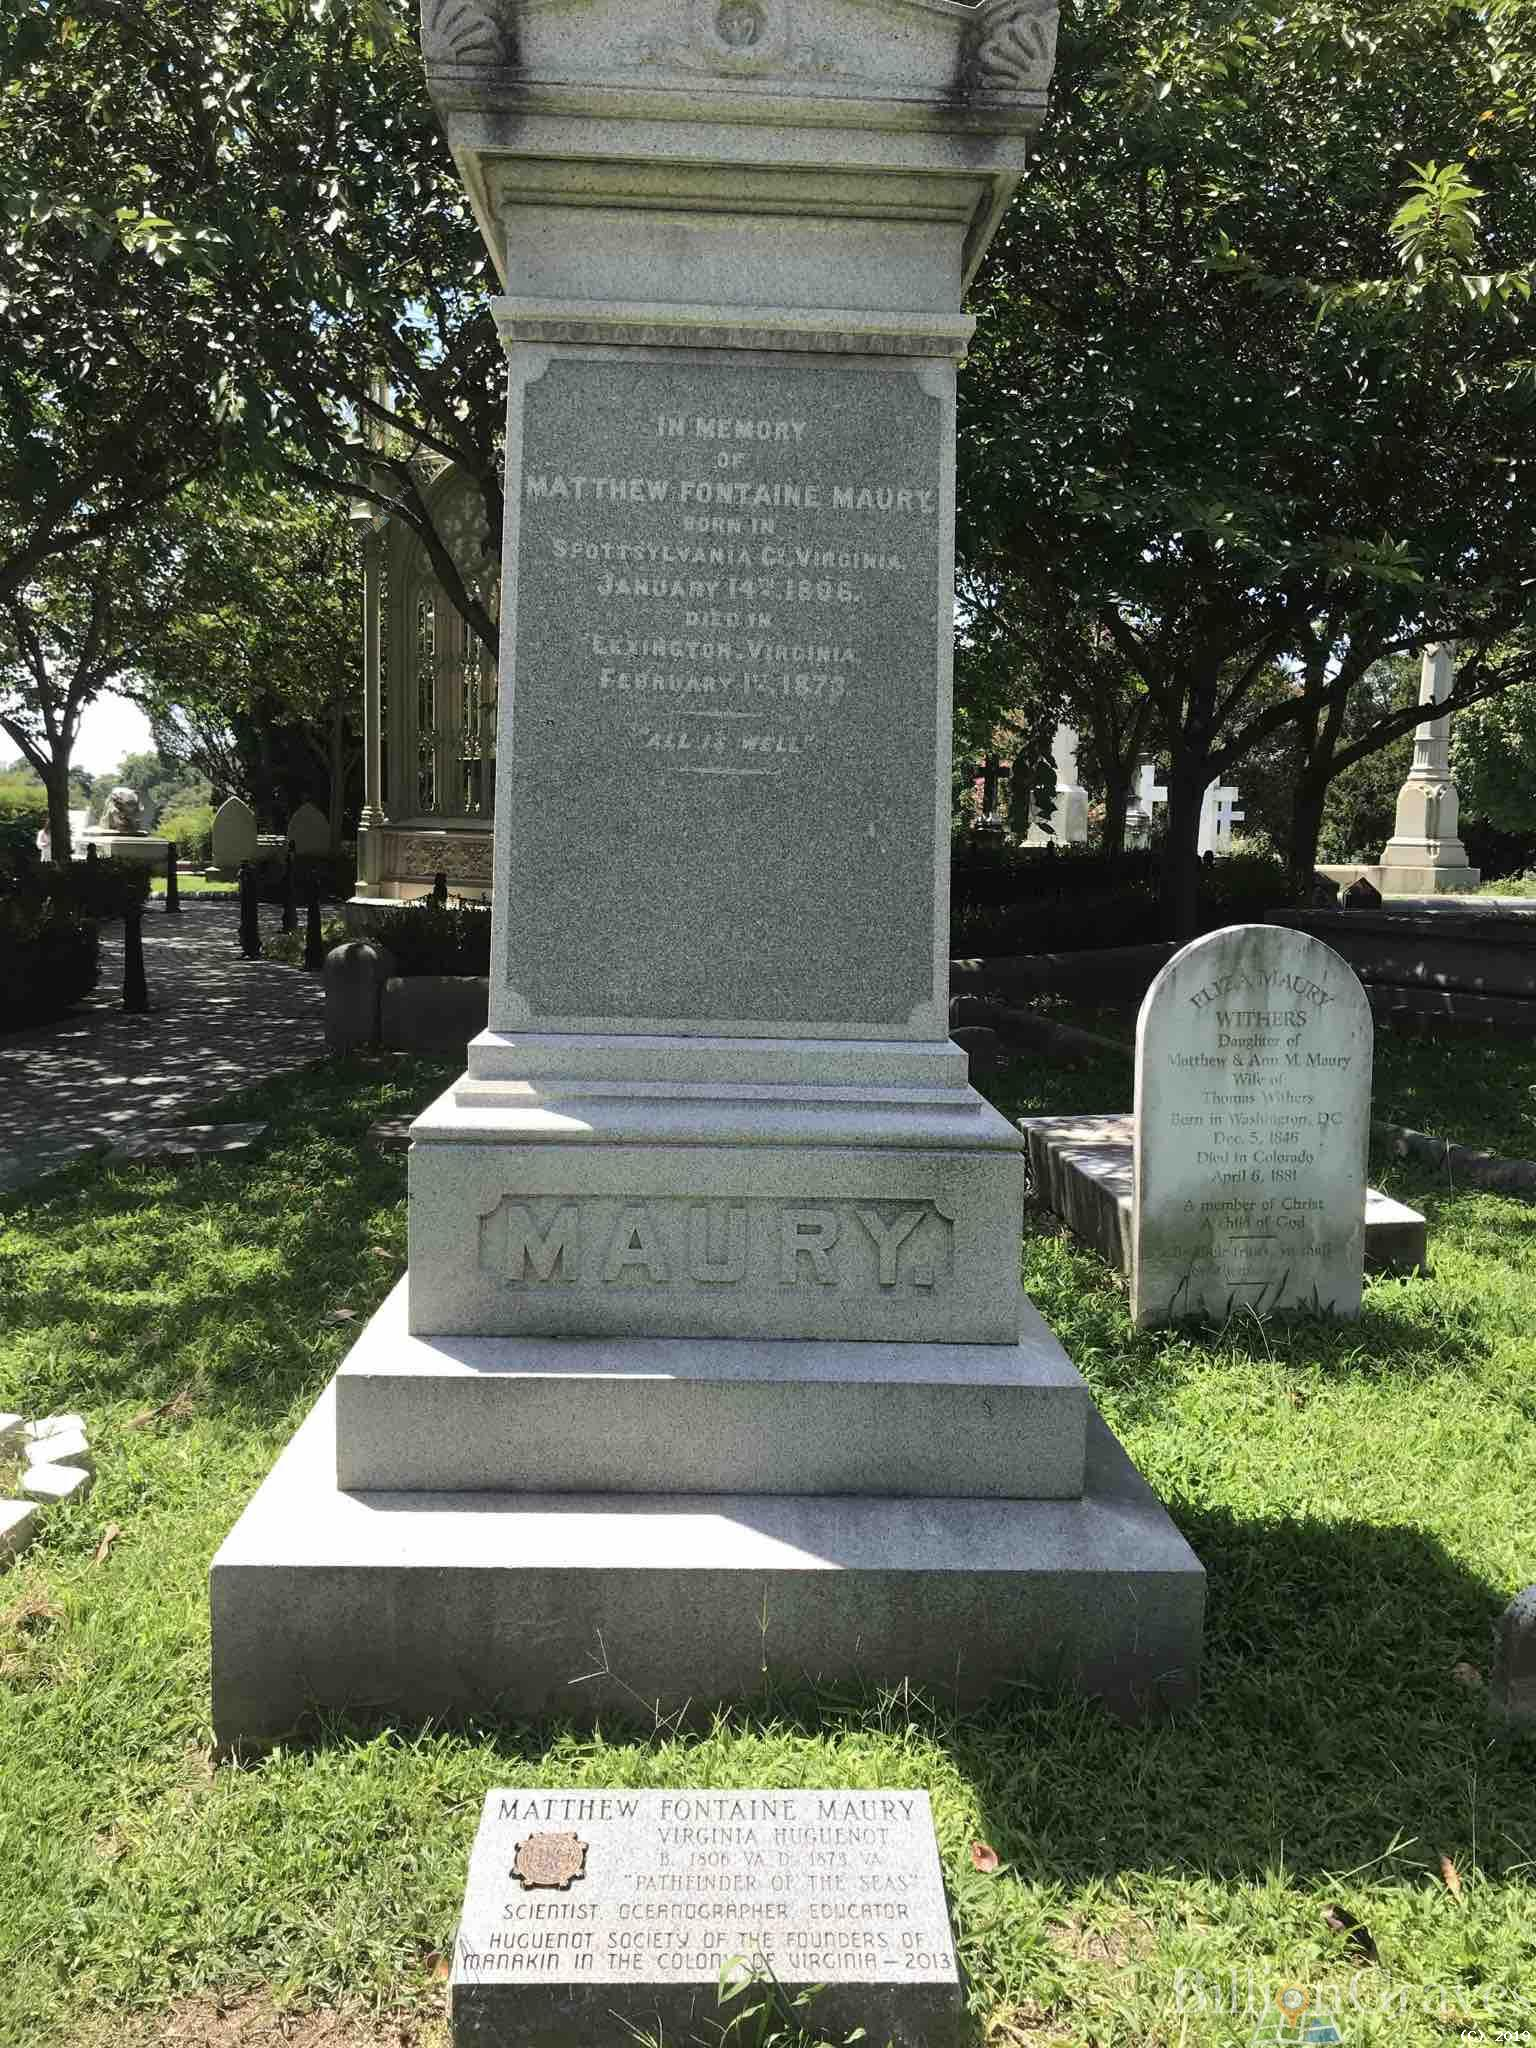obelisk: (402, 0, 1021, 1348)
